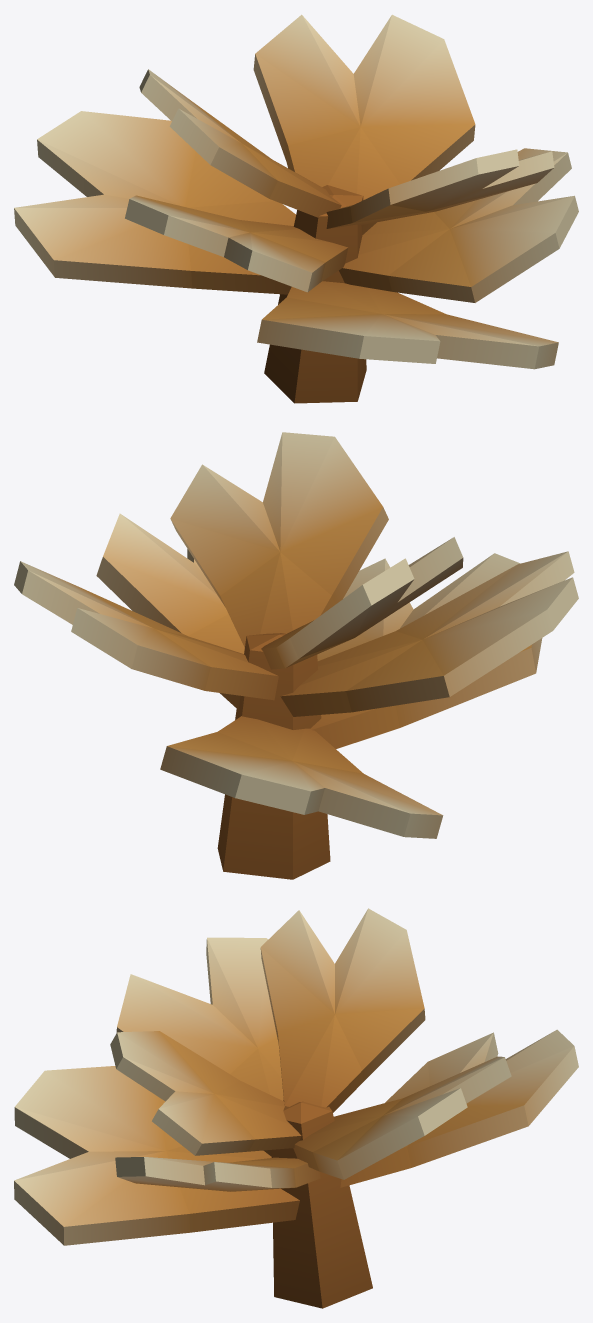
Rendered from coral-elkhorn.glb.
The picture shows the model from 3 angles, top to bottom: view 1: azimuth 30°, elevation 25°; view 2: azimuth 150°, elevation 25°; view 3: azimuth 270°, elevation 25°; orthographic projection. The views are drawn at different scales.
Parts seen in each view (by area): view 1: coral-elkhorn_mesh; view 2: coral-elkhorn_mesh; view 3: coral-elkhorn_mesh.
Part boxes in pixels (box(x1,y1,x2,y2)): coral-elkhorn_mesh: box(14, 14, 578, 403); coral-elkhorn_mesh: box(14, 432, 578, 879); coral-elkhorn_mesh: box(14, 908, 578, 1308).
Bounding box in the file's own units: 1.77 × 1.33 × 2.16.
